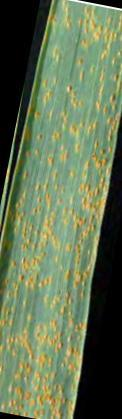Wheat: (8, 207, 71, 408), (52, 14, 119, 127), (26, 134, 105, 200)
